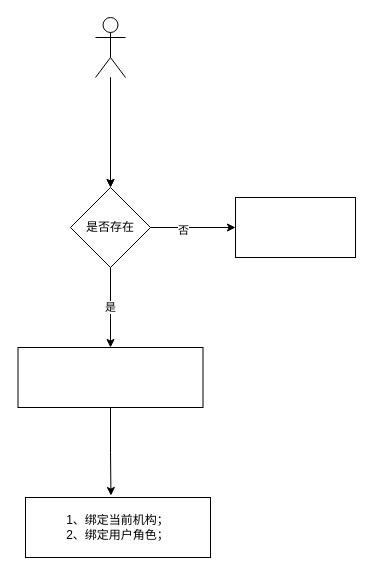
Image size: 373x575. Some labels were removed from this diagram. The shapes that lost their labels are listed below. From the top down, each one's centre as x and y in pixels, then its label:
At point 110,47: "运营端用户登录".
At point 110,377: "根据手机号获取用户信息".
